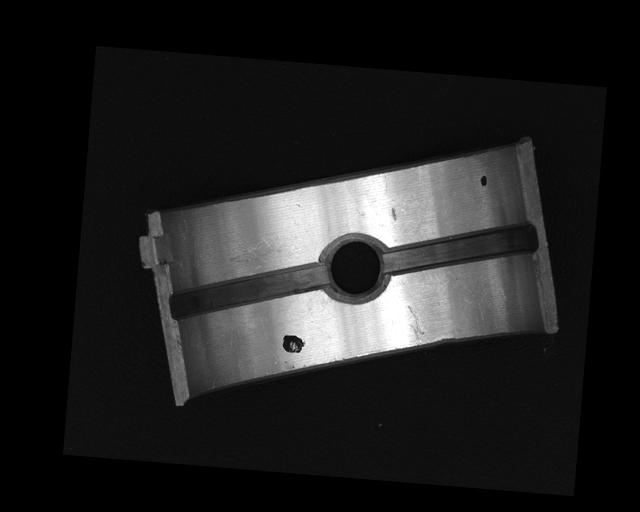blot: (281, 333, 307, 353), (479, 174, 489, 187)
bruise: (390, 207, 397, 222)
gap: (169, 249, 327, 329), (383, 212, 538, 283)
hole: (318, 233, 392, 303)
nick: (403, 304, 426, 345)
scratch: (222, 232, 285, 272)
